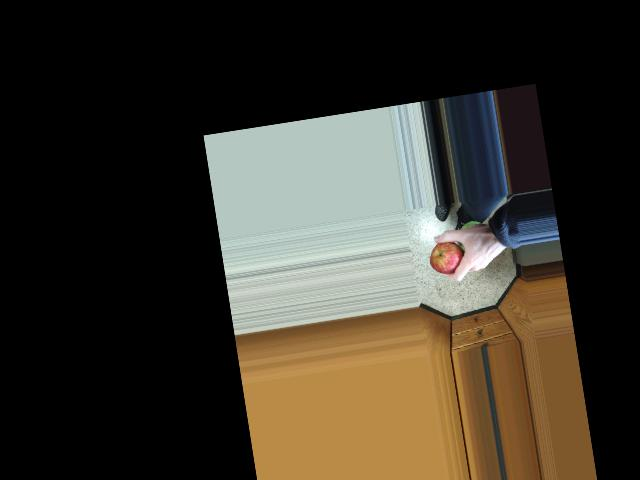apple: (425, 233, 471, 278)
